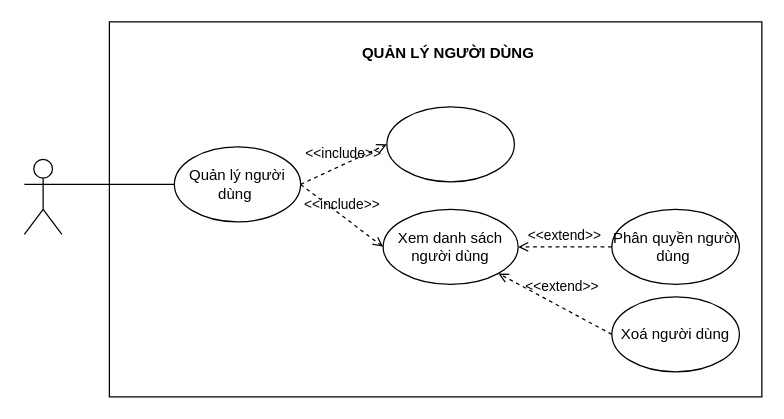
Some shapes in this 784 by 419 pixel diagram are drawn without their labels. Each missing label, with the centre of its shape:
"Admin" goes at point (42, 196).
"Đăng nhập" goes at point (450, 144).
